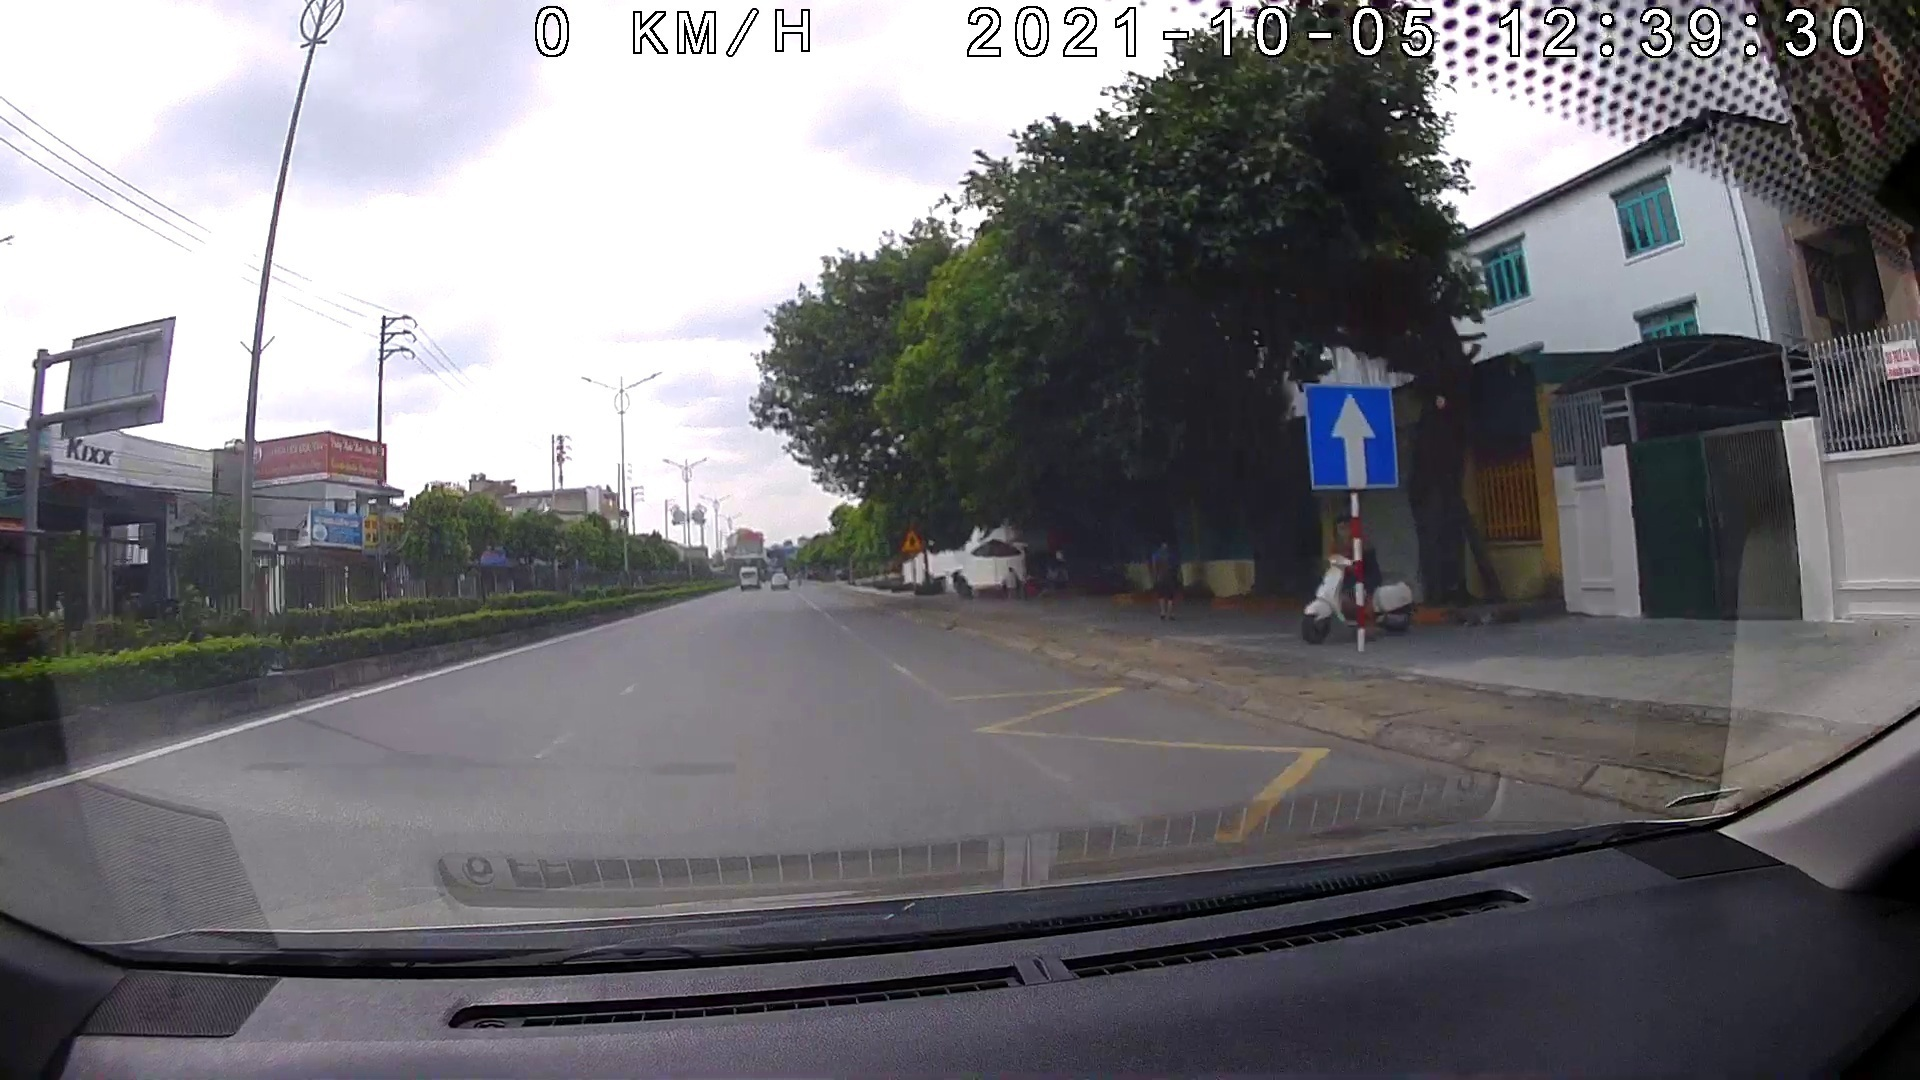Bien khac: (1303, 382, 1398, 489)
Giao nhau voi duong khong uu tien: (899, 527, 924, 551)
